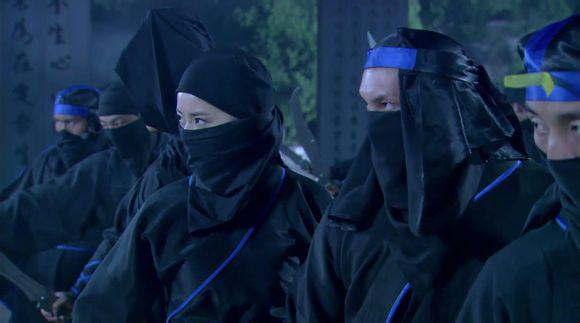OK: (361, 93, 422, 156), (176, 104, 235, 163), (101, 116, 140, 153)
WRONG: (531, 113, 580, 196), (56, 116, 86, 147)
